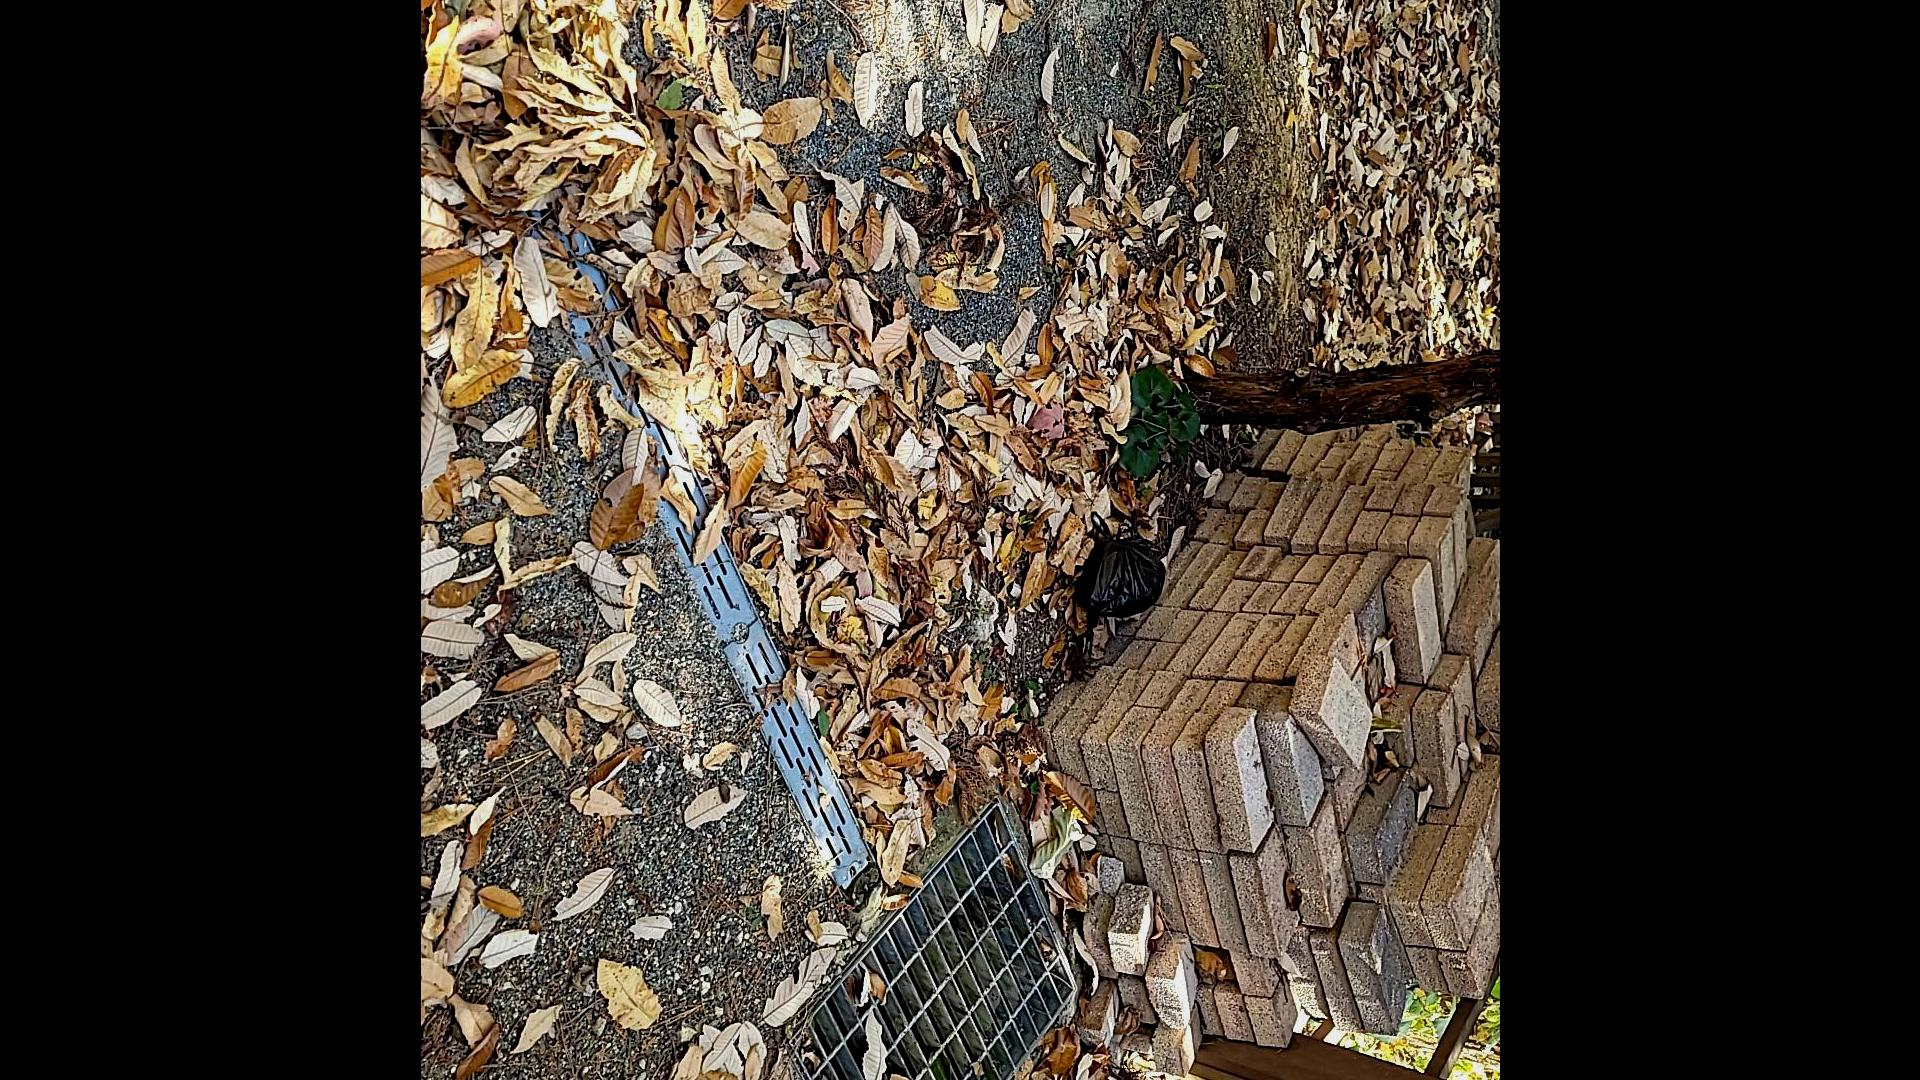black_bag: (1072, 513, 1164, 625)
